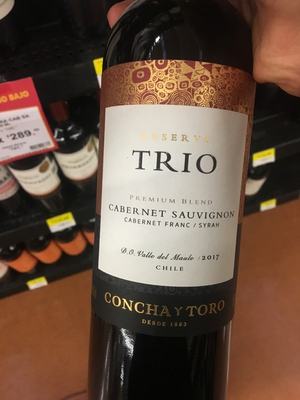trio cabernet sauvignon: (87, 9, 271, 400)
